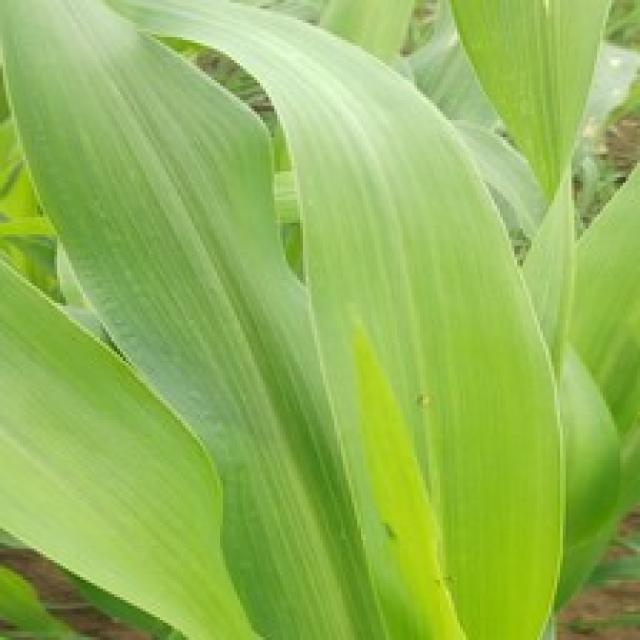Corn: (0, 0, 637, 637), (0, 200, 271, 637), (437, 0, 626, 203)
